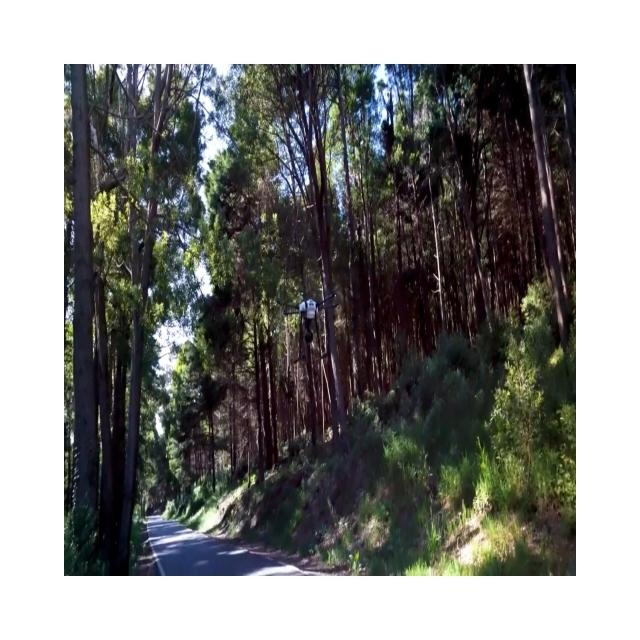drone: (280, 289, 338, 363)
